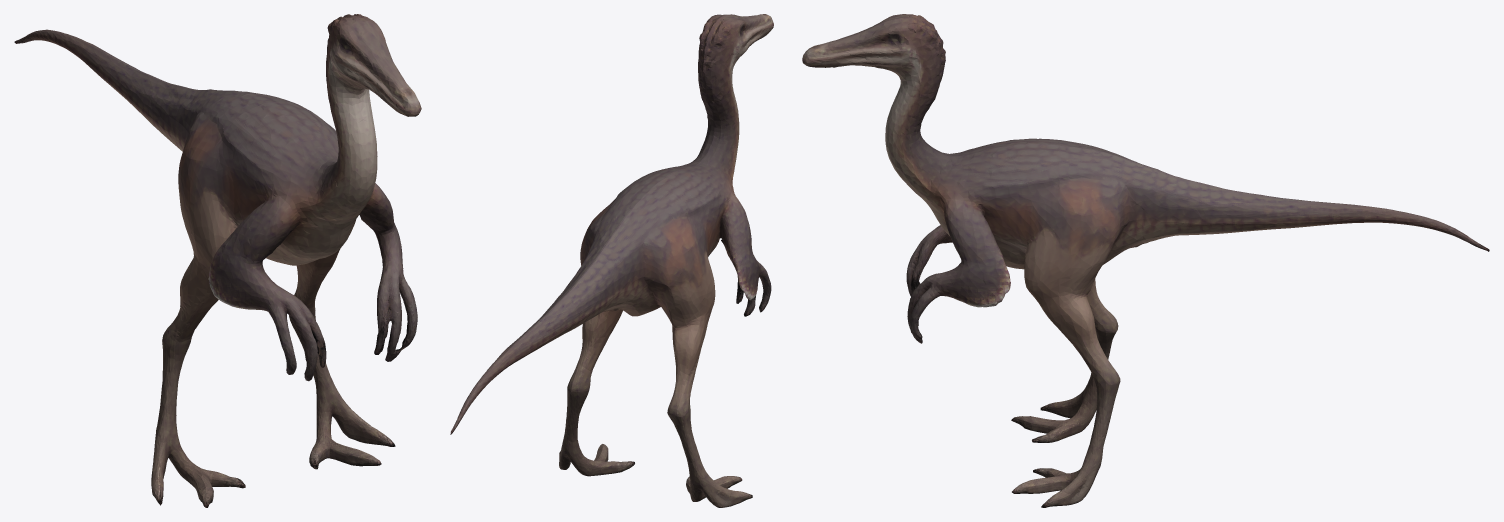
3 views of the same model, side by side, from view 1: azimuth 30°, elevation 25°; view 2: azimuth 150°, elevation 25°; view 3: azimuth 270°, elevation 25° (orthographic). The views are drawn at different scales.
Visible parts, largest first — view 1: world; view 2: world; view 3: world.
Part boxes in pixels (left/top/right/bottom): world: left=14, top=14, right=421, bottom=507; world: left=450, top=14, right=773, bottom=507; world: left=802, top=14, right=1489, bottom=507.
Size of the model in its own units: 0.3393 by 0.7116 by 0.9965.
1 material, 1 textured.
